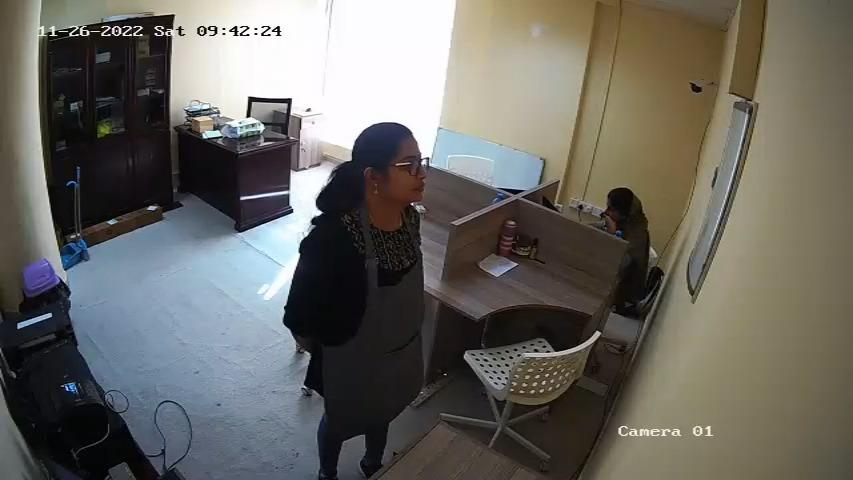apron: (317, 215, 423, 389)
